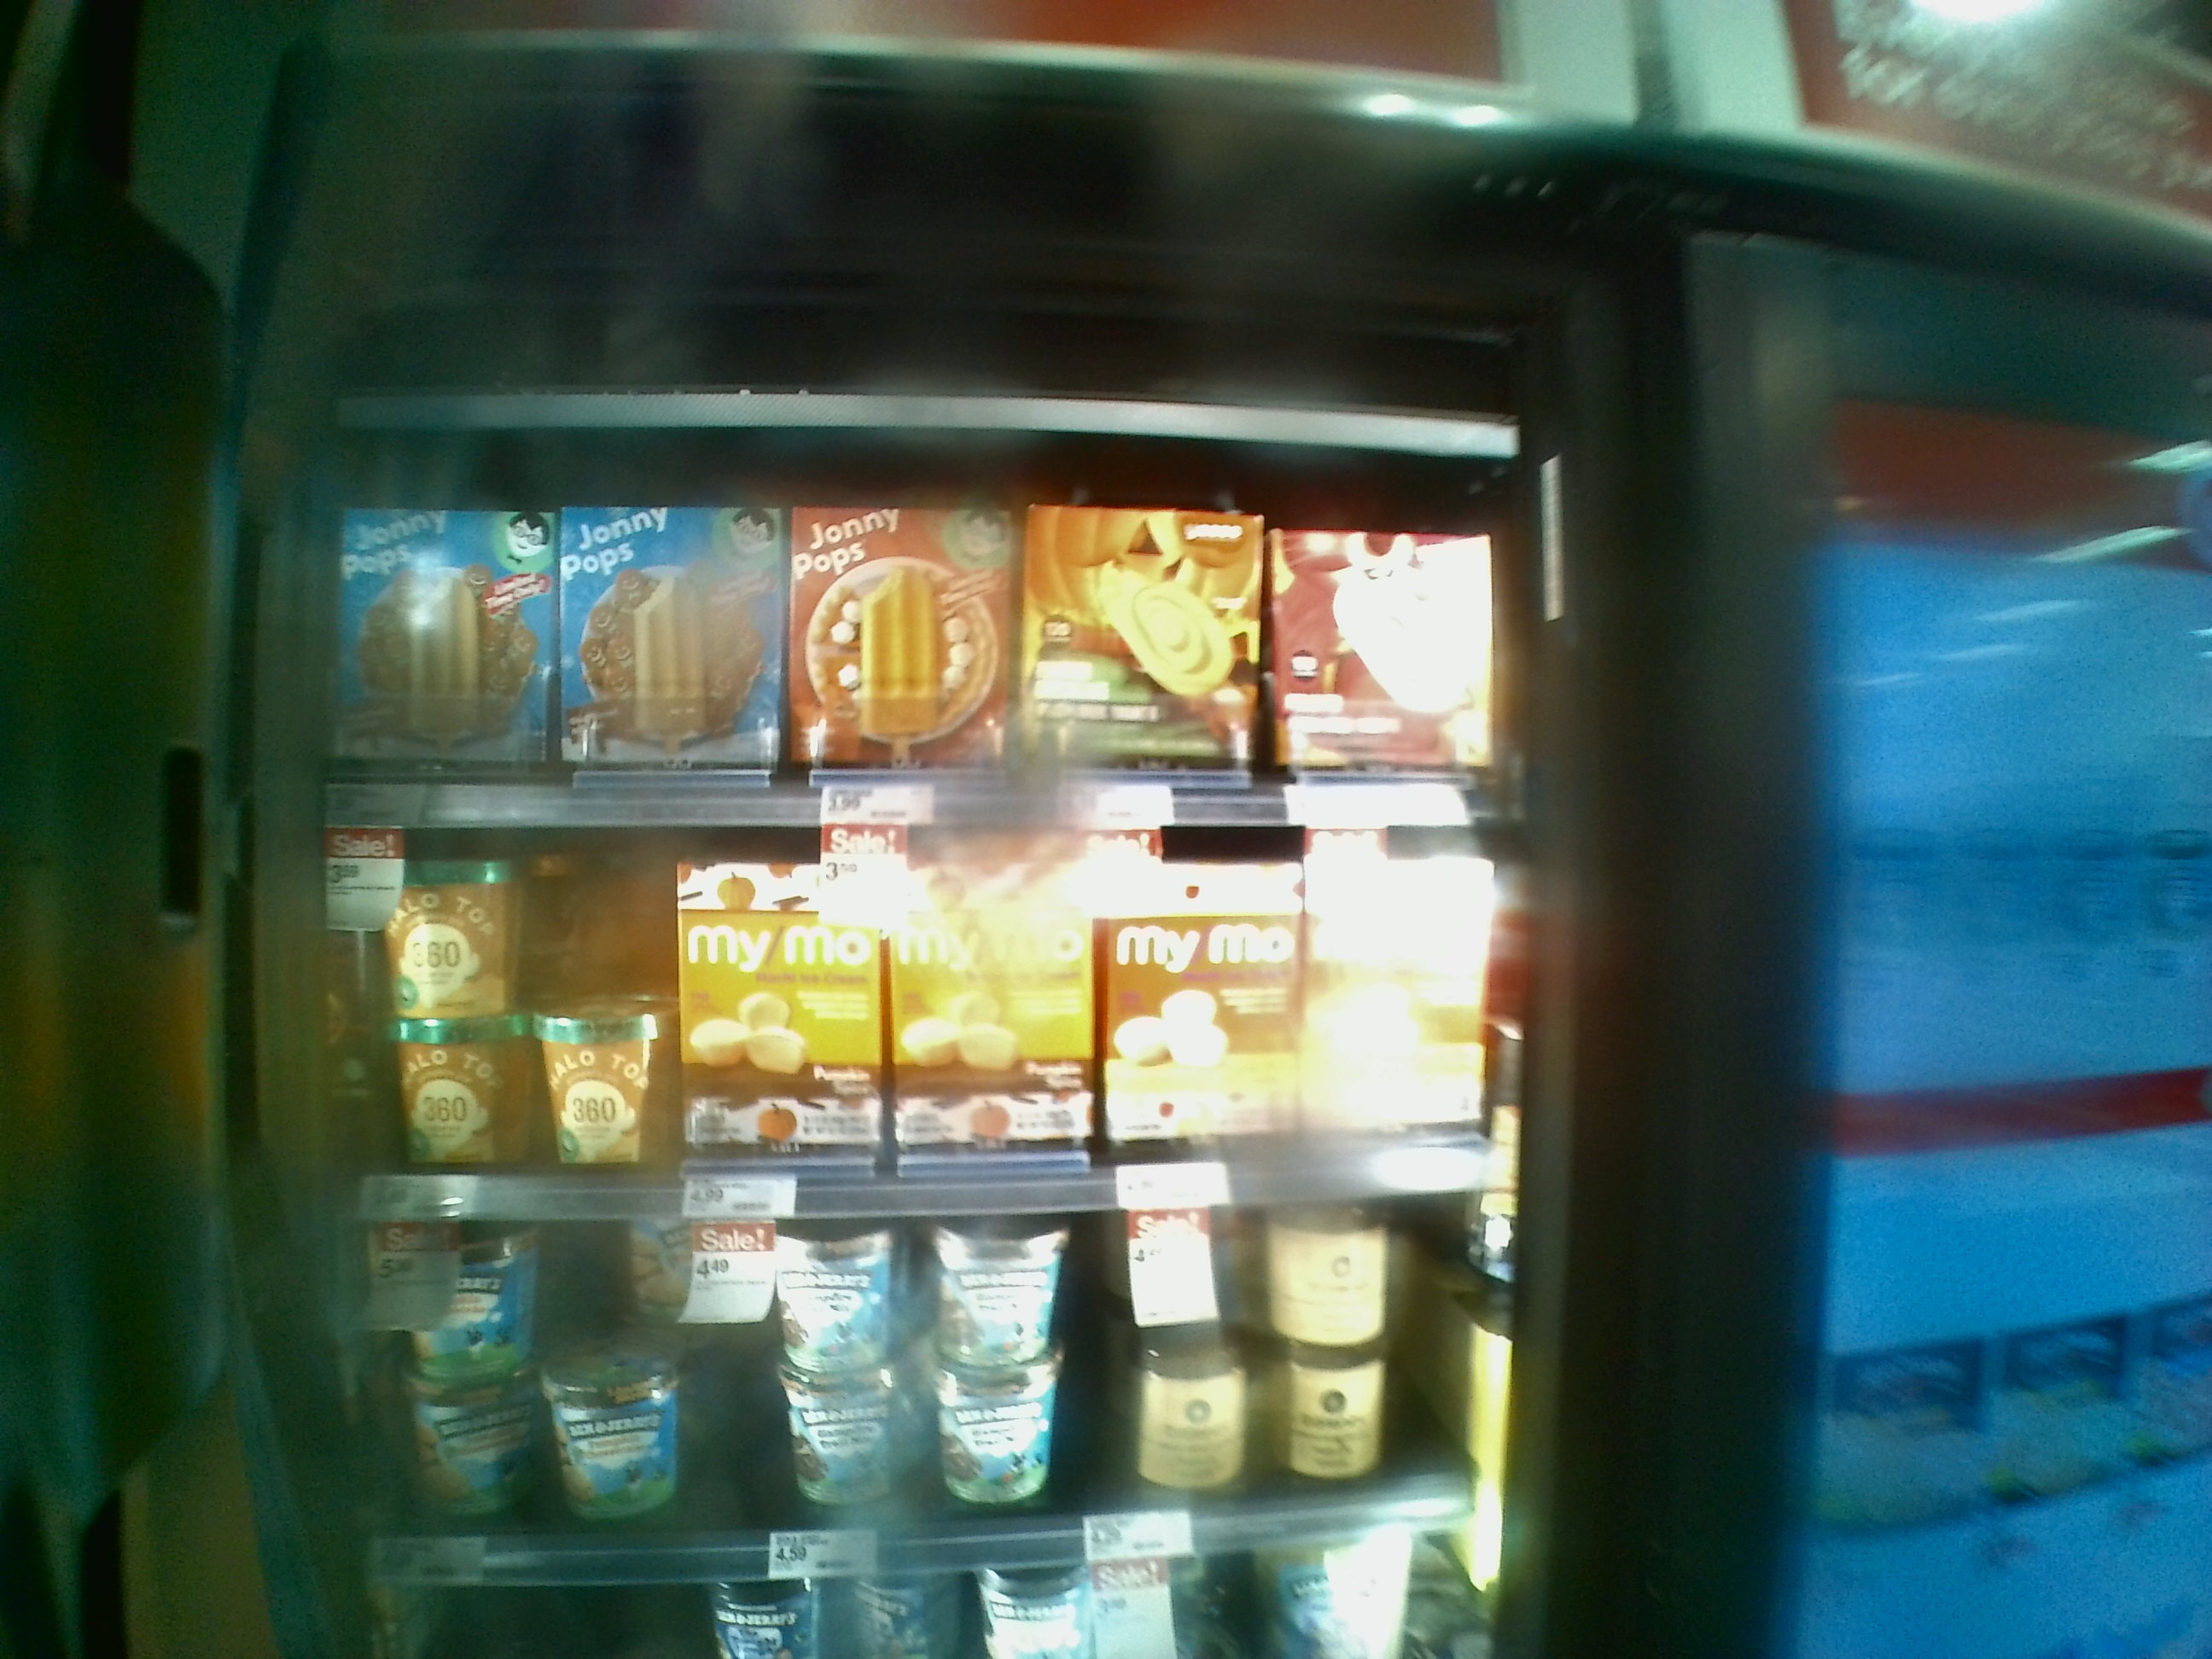shelf: (286, 793, 1522, 1208), (308, 432, 1519, 816), (317, 1187, 1484, 1523)
